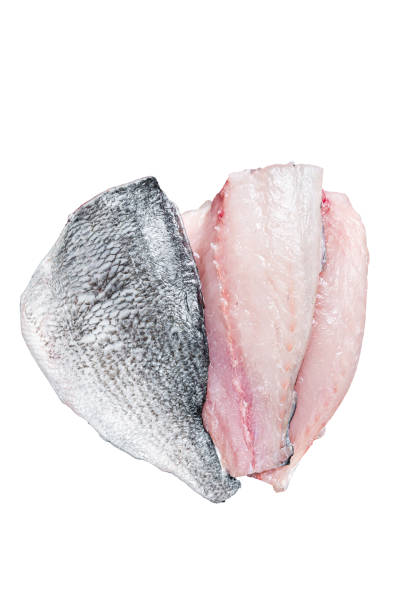bream-fish: (20, 177, 242, 507), (195, 162, 326, 493)
